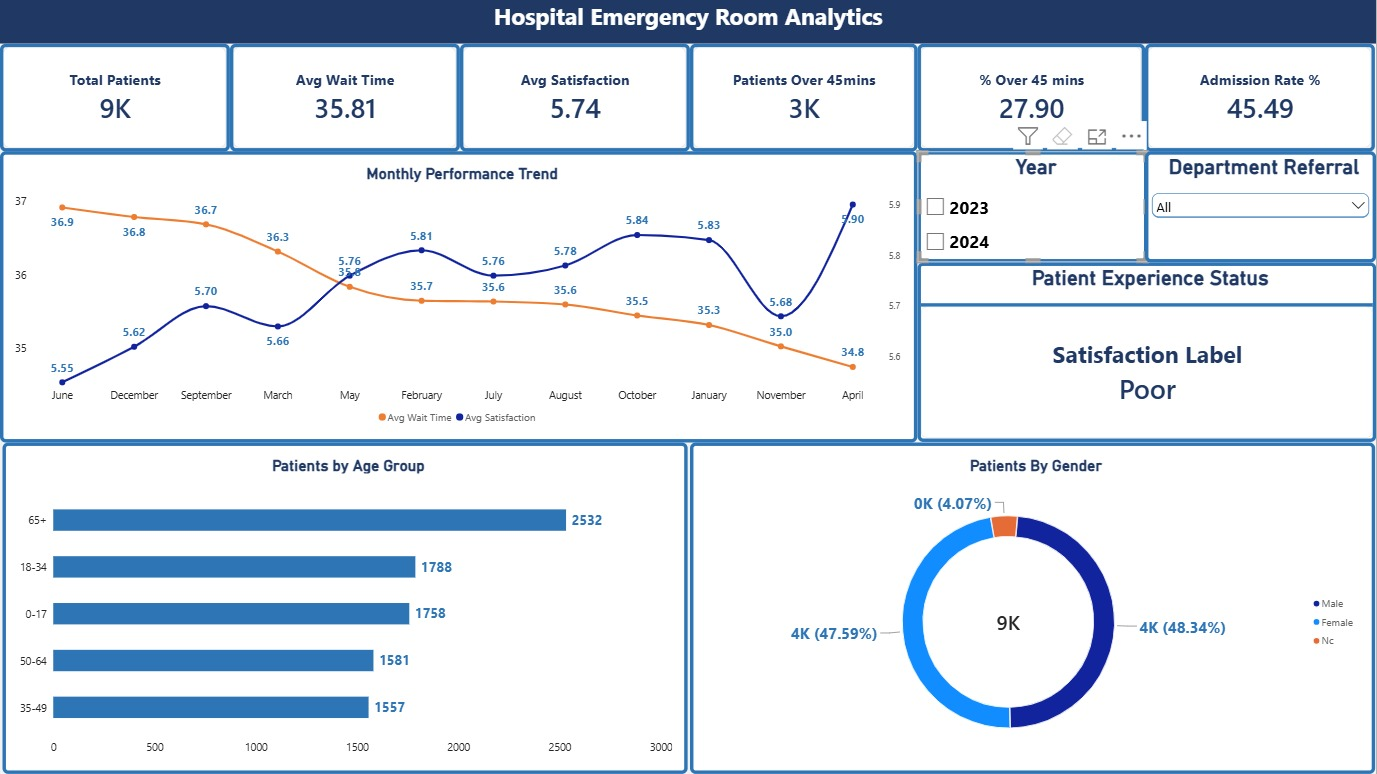

What the dashboard file says about the page in this screenshot:
{"tool":"powerbi","page":{"name":"Executive summary","canvas":[1920,1080],"ordinal":0},"visuals":[{"type":"textbox","box":[0,0,1920.4,60],"z":0},{"type":"cardVisual","fields":{"Data":["hospital_er_clean.Avg Wait Time"]},"box":[320.9,61,320.9,150],"z":1000},{"type":"cardVisual","fields":{"Data":["hospital_er_clean.Total Patients"]},"box":[0,61,320.9,150],"z":2000},{"type":"cardVisual","fields":{"Data":["hospital_er_clean.Avg Satisfaction"]},"box":[641.9,61,320.9,150],"z":3000},{"type":"cardVisual","fields":{"Data":["hospital_er_clean.Patients Over 45mins"]},"box":[962.8,61,317.4,150],"z":4000},{"type":"cardVisual","fields":{"Data":["hospital_er_clean.Admission Rate %"]},"box":[1597.7,61,320.9,150],"z":5000},{"type":"cardVisual","fields":{"Data":["hospital_er_clean.% Over 45 mins"]},"box":[1280.2,61,317.4,150],"z":6000},{"type":"cardVisual","title":"Patient Experience Status","fields":{"Data":["hospital_er_clean.Satisfaction Label"]},"box":[1280.2,366.3,640,250],"z":7000},{"type":"lineChart","title":"Monthly Performance  Trend","fields":{"Category":["hospital_er_clean.month_name"],"Y":["hospital_er_clean.Avg Wait Time"],"Y2":["hospital_er_clean.Avg Satisfaction"]},"box":[0,211,1280.2,406.4],"z":8000},{"type":"donutChart","title":"Patients By Gender","fields":{"Category":["hospital_er_clean.patient_gender"],"Y":["hospital_er_clean.Total Patients"]},"box":[962.8,617.4,955.8,462.2],"z":9000},{"type":"clusteredBarChart","title":"Patients by Age Group","fields":{"Category":["hospital_er_clean.age_group"],"Y":["hospital_er_clean.Total Patients"]},"box":[3.5,617.4,955.8,462.2],"z":10000},{"type":"slicer","title":"Year","fields":{"Values":["hospital_er_clean.year"]},"box":[1280.2,211,320.9,155.2],"z":11000},{"type":"slicer","title":"Department Referral","fields":{"Values":["hospital_er_clean.department_referral"]},"box":[1597.7,211,322.7,155.2],"z":12000}]}

Visuals, with their boxes in screenshot pixels (x1, y1, x2, y2), scaled from the page's 1920x1080 canvas onto the 1377x774 screenshot:
textbox: (0, 0, 1376, 43)
cardVisual - hospital_er_clean.Avg Wait Time: (230, 44, 460, 151)
cardVisual - hospital_er_clean.Total Patients: (0, 44, 230, 151)
cardVisual - hospital_er_clean.Avg Satisfaction: (460, 44, 691, 151)
cardVisual - hospital_er_clean.Patients Over 45mins: (691, 44, 918, 151)
cardVisual - hospital_er_clean.Admission Rate %: (1146, 44, 1376, 151)
cardVisual - hospital_er_clean.% Over 45 mins: (918, 44, 1146, 151)
"Patient Experience Status" cardVisual: (918, 263, 1376, 442)
"Monthly Performance  Trend" lineChart: (0, 151, 918, 442)
"Patients By Gender" donutChart: (691, 442, 1376, 773)
"Patients by Age Group" clusteredBarChart: (3, 442, 688, 773)
"Year" slicer: (918, 151, 1148, 262)
"Department Referral" slicer: (1146, 151, 1376, 262)
